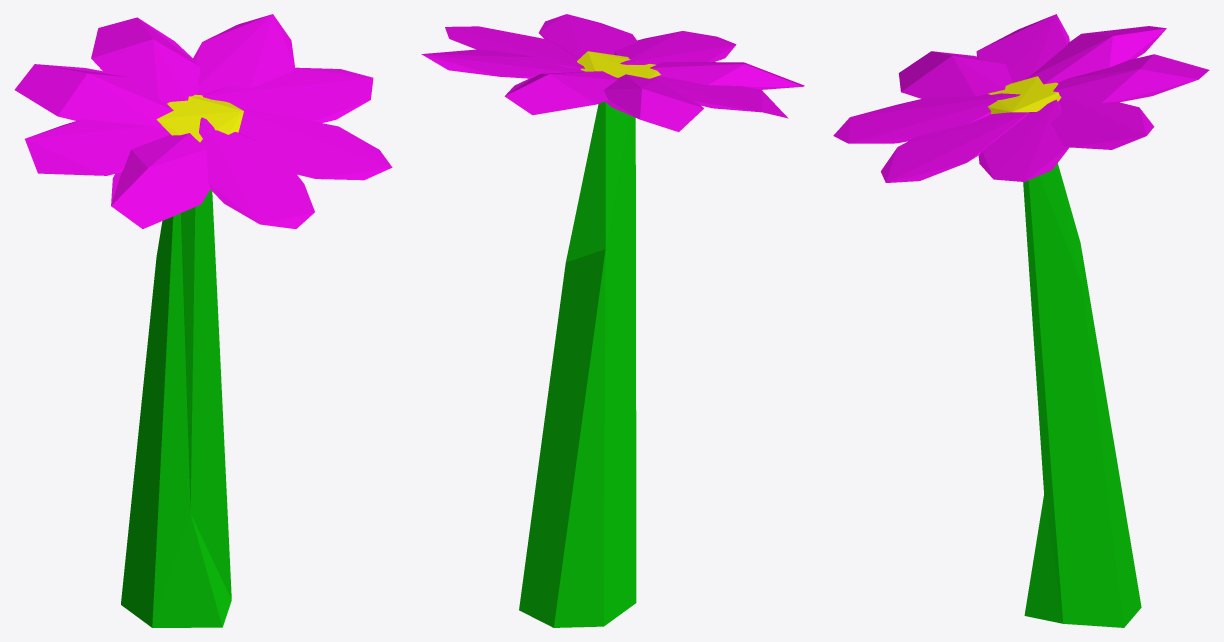
File: Flower#3.fbx
The picture shows the model from 3 angles, left to right: view 1: azimuth 30°, elevation 25°; view 2: azimuth 150°, elevation 25°; view 3: azimuth 270°, elevation 25°; orthographic projection.
Parts seen in each view (by area): view 1: Flower#3; view 2: Flower#3; view 3: Flower#3.
Boxes of the visible parts, left/top/right/bottom form: Flower#3: left=14, top=14, right=392, bottom=627; Flower#3: left=421, top=14, right=804, bottom=627; Flower#3: left=833, top=14, right=1209, bottom=627.
Size of the model in its own units: 25.06 by 38.78 by 24.45.
